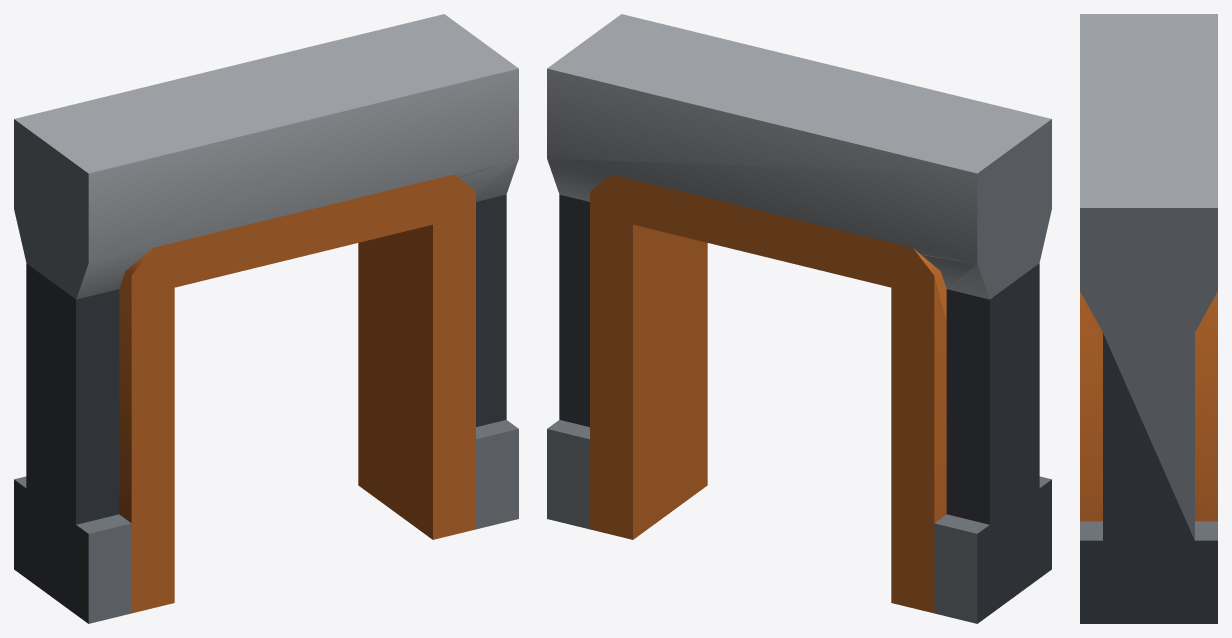
File: Kit_wall-door-wide.fbx
The picture shows the model from 3 angles, left to right: view 1: azimuth 30°, elevation 25°; view 2: azimuth 150°, elevation 25°; view 3: azimuth 270°, elevation 25°; orthographic projection. The views are drawn at different scales.
Parts seen in each view (by area): view 1: Kit_wall-door-wide; view 2: Kit_wall-door-wide; view 3: Kit_wall-door-wide.
Part boxes in pixels (left/top/right/bottom): Kit_wall-door-wide: left=14, top=14, right=518, bottom=623; Kit_wall-door-wide: left=547, top=14, right=1051, bottom=623; Kit_wall-door-wide: left=1080, top=14, right=1217, bottom=623.
Size of the model in its own units: 1 by 1 by 0.3.
